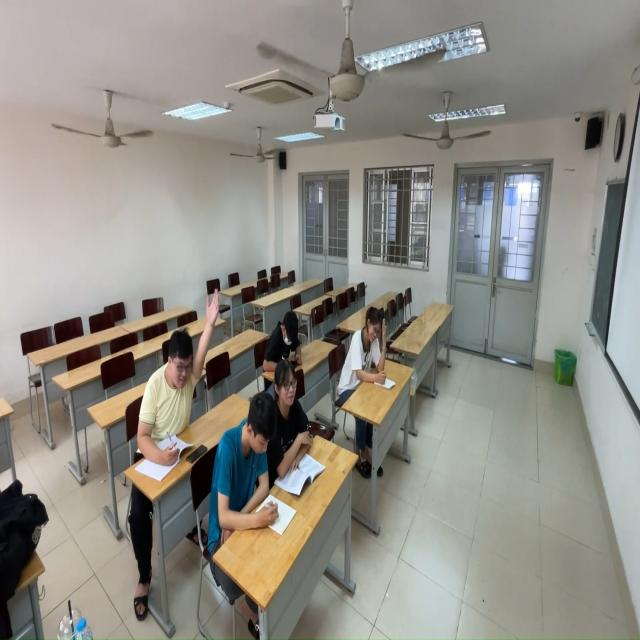raise_hand: (128, 281, 221, 461), (341, 301, 391, 402)
read: (208, 391, 288, 539), (270, 359, 322, 483), (266, 310, 305, 368)
